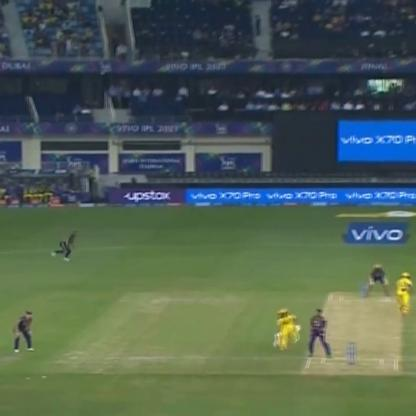pitch: (302, 292, 406, 378)
